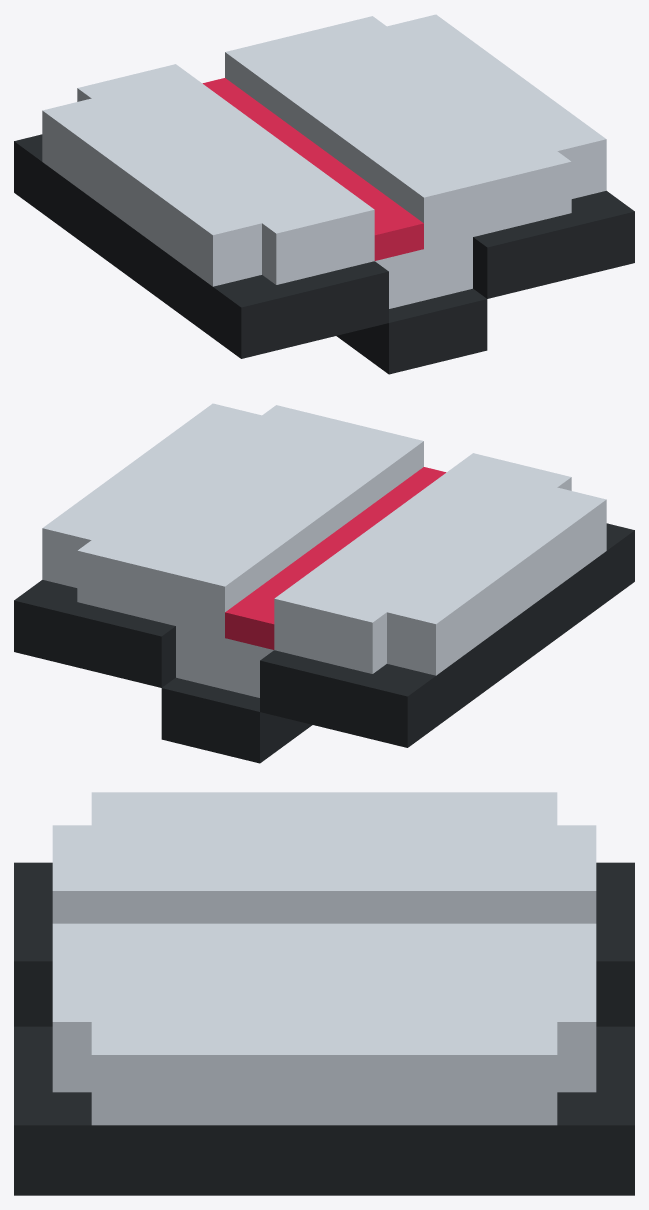
File: ritual-book.obj
The picture shows the model from 3 angles, top to bottom: view 1: azimuth 30°, elevation 25°; view 2: azimuth 150°, elevation 25°; view 3: azimuth 270°, elevation 25°; orthographic projection. The views are drawn at different scales.
Size of the model in its own units: 8 by 3 by 8.
1 material, 1 textured.
